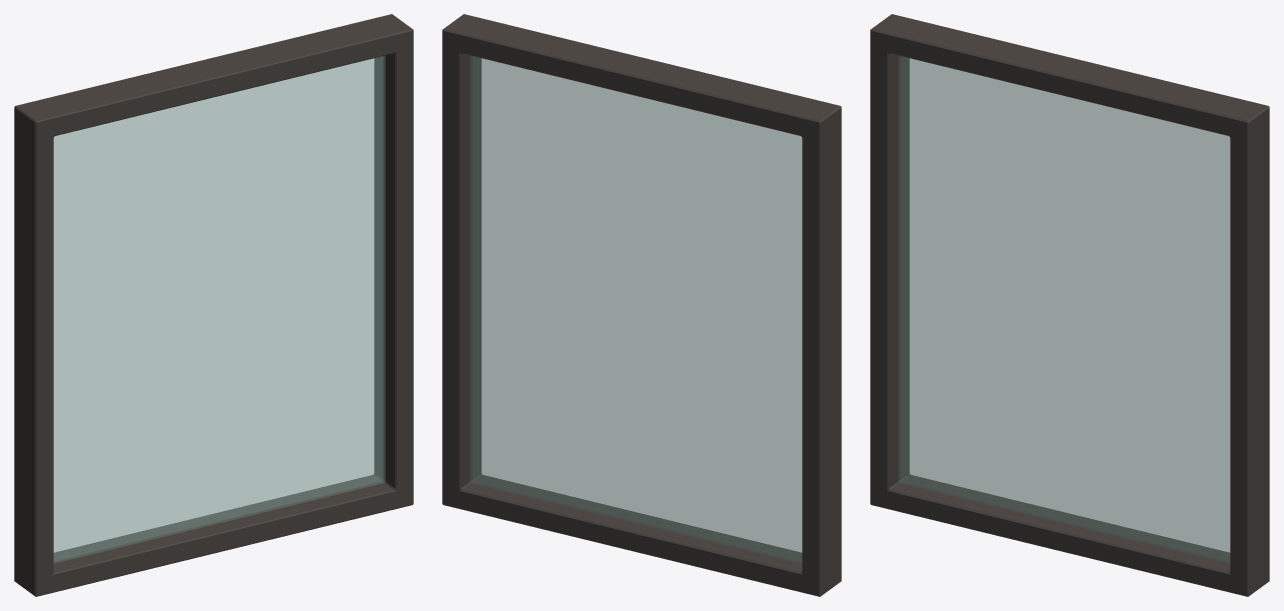
File: arch_window_w100_h120.glb
The picture shows the model from 3 angles, left to right: view 1: azimuth 30°, elevation 25°; view 2: azimuth 150°, elevation 25°; view 3: azimuth 330°, elevation 25°; orthographic projection.
Parts seen in each view (by area): view 1: Glass, Frame; view 2: Glass, Frame; view 3: Glass, Frame.
Part boxes in pixels (x1,y1,x2,y2): Glass: [53, 56, 385, 563]; Frame: [14, 14, 413, 596]; Glass: [470, 56, 802, 563]; Frame: [442, 14, 841, 596]; Glass: [898, 56, 1230, 563]; Frame: [870, 14, 1269, 596].
Size of the model in its own units: 1 by 1.2 by 0.1.
